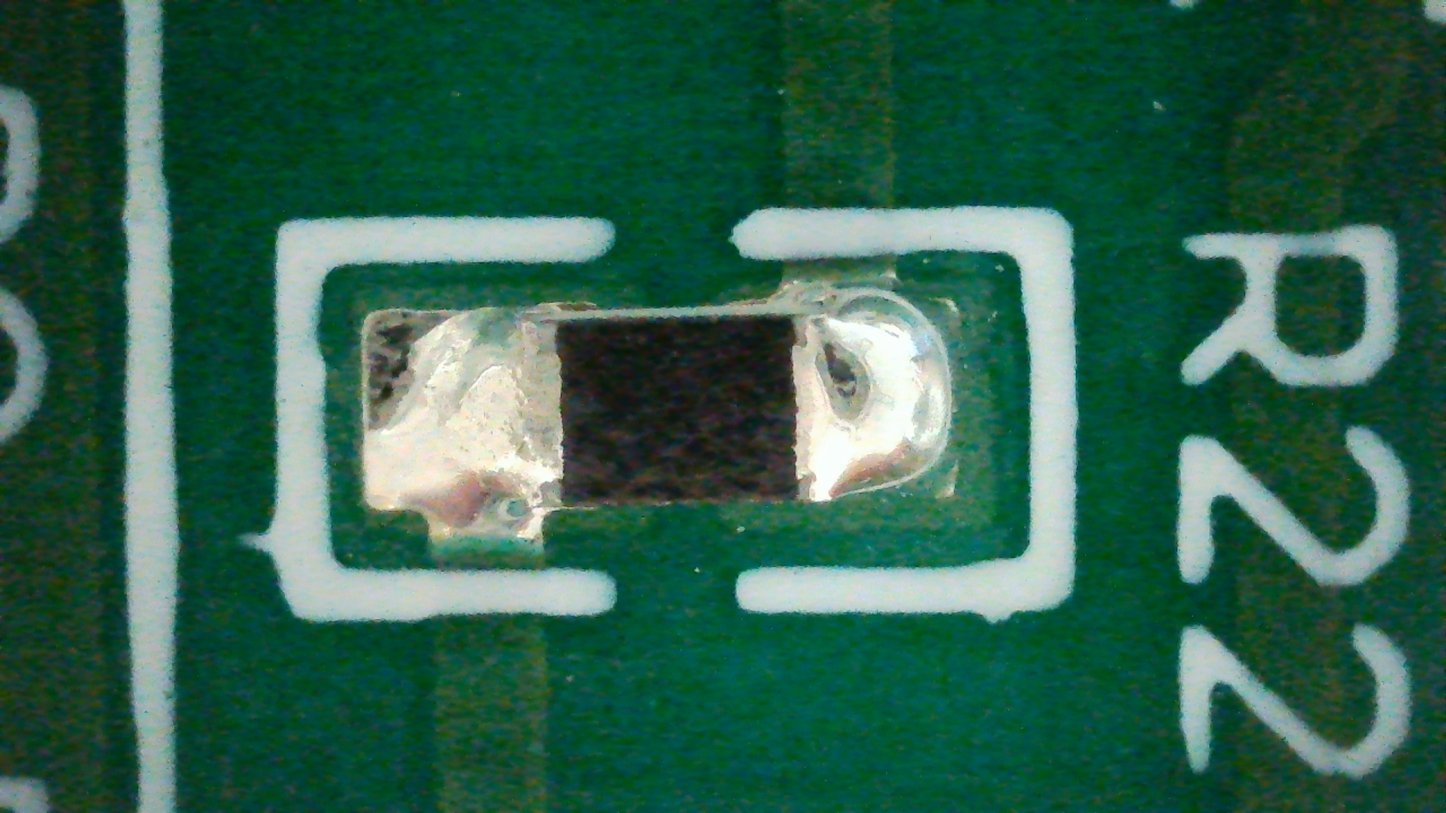OK: (361, 282, 952, 543)
